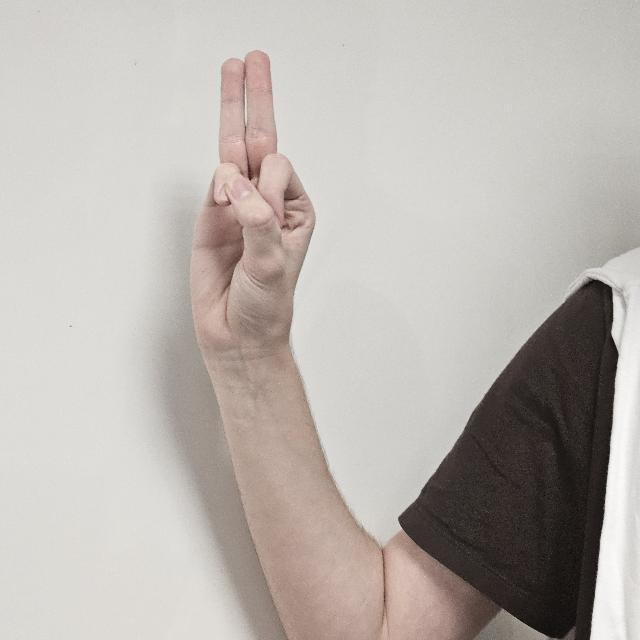R: (184, 51, 316, 432)
